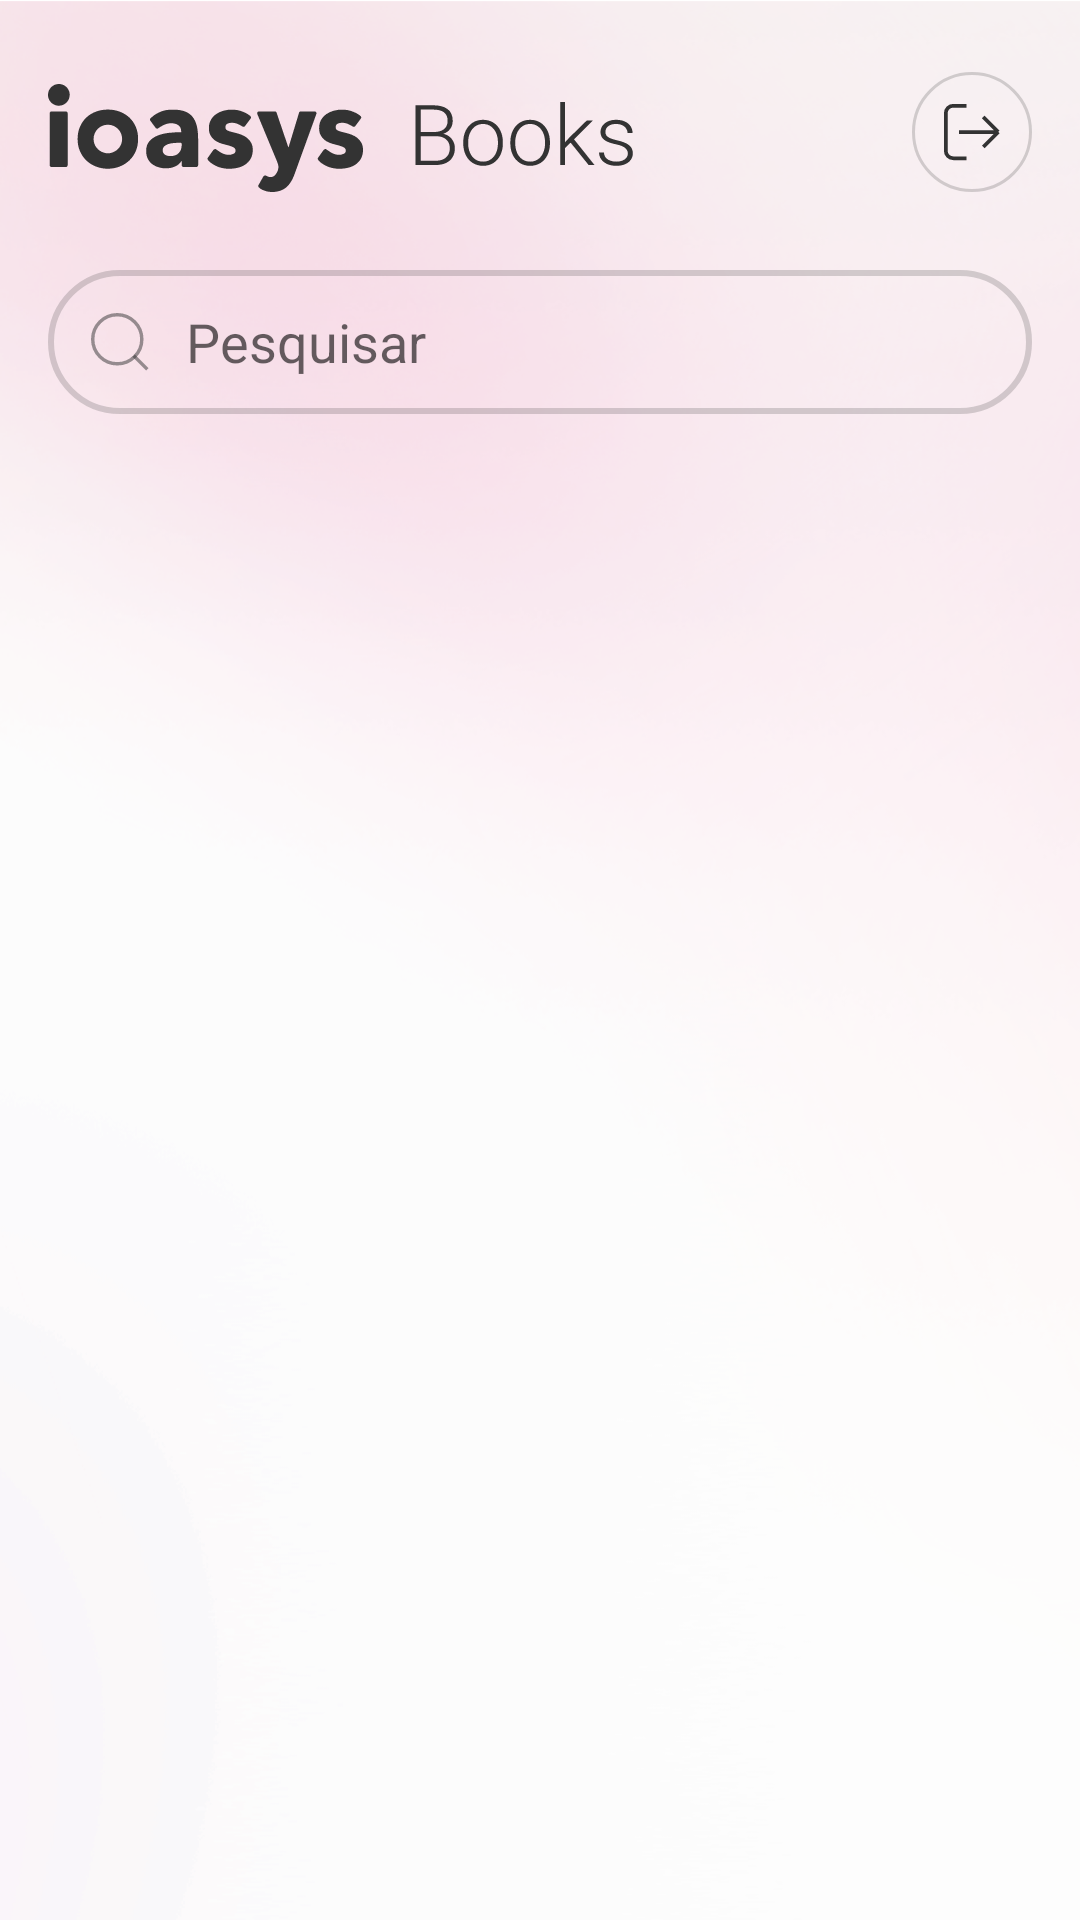

Icon bounding boxes for this 1080×1920 phone screenshot, format rect(x1, y1, x2, y2):
log out: rect(912, 72, 1032, 192)
search view: rect(91, 313, 148, 370)
